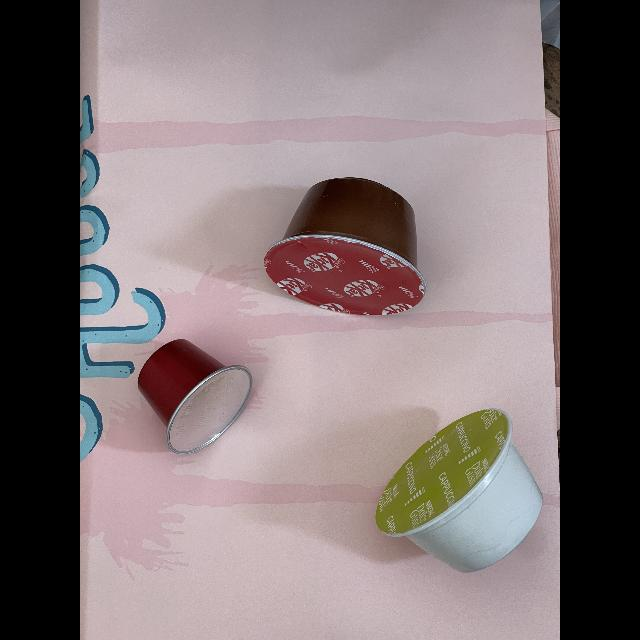intact_capsule: (374, 402, 560, 576), (254, 167, 442, 325), (146, 332, 266, 460)
